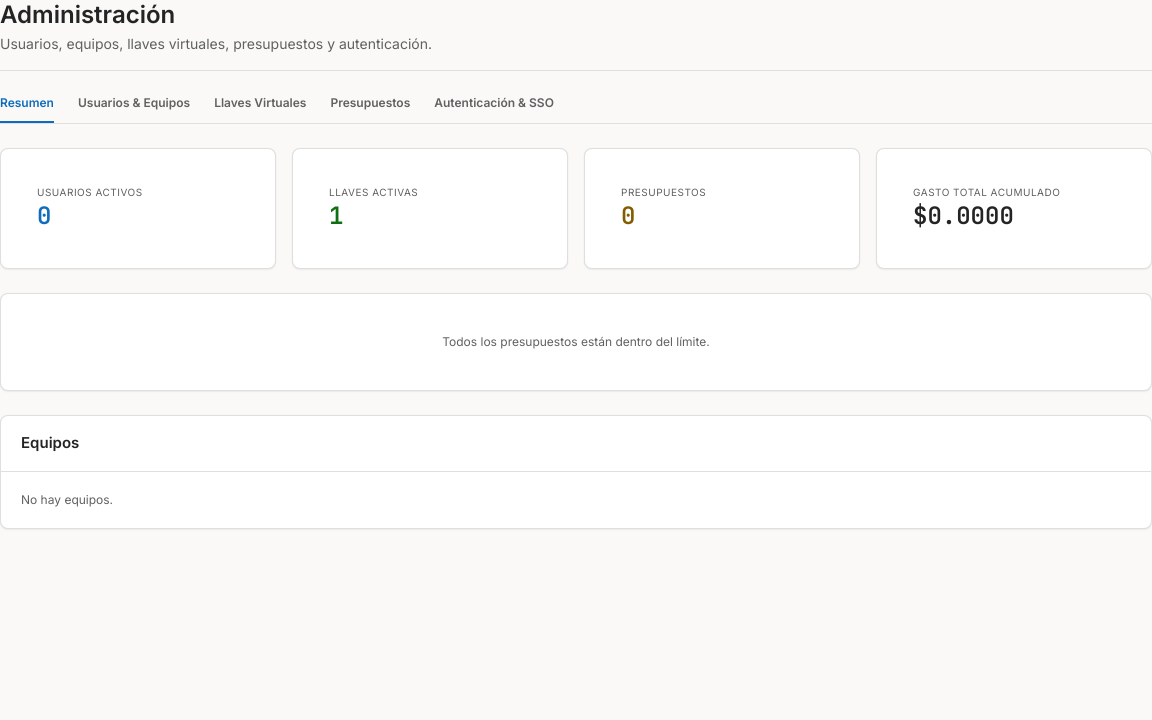
Scenario: UsersPage — editar límites de una llave › guarda los límites nuevos y recarga la lista con lo que quedó
Click the button "Llaves Virtuales" at (260, 109), box [214,95,306,123]
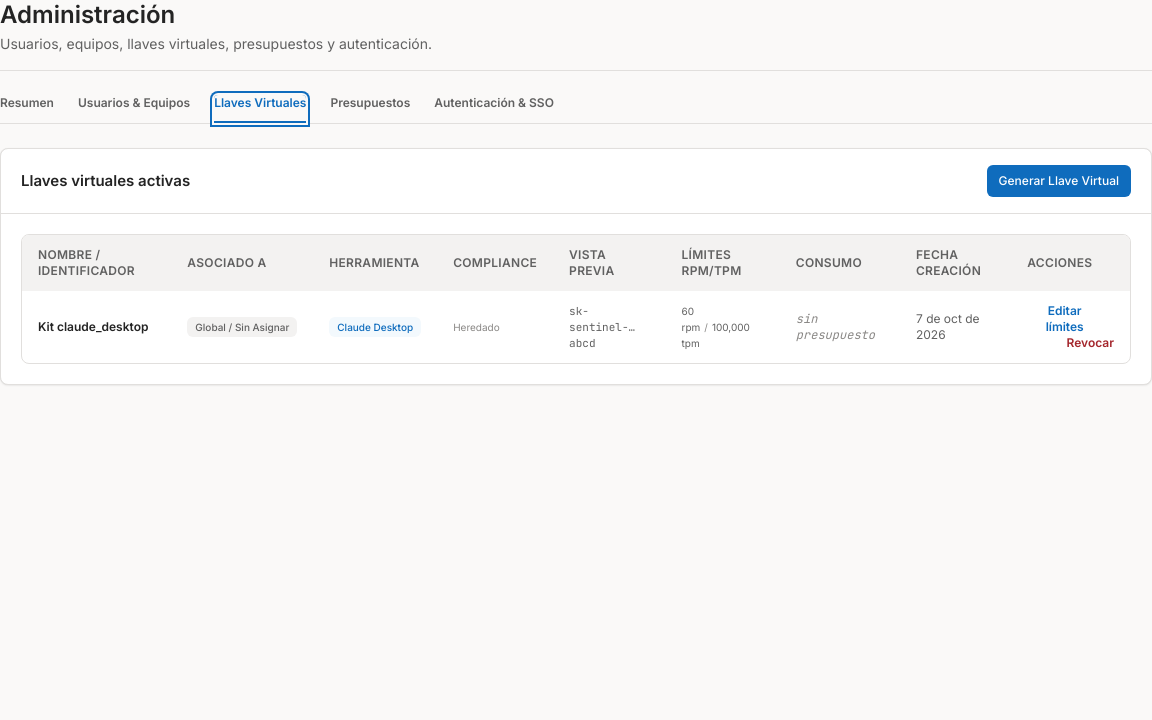
Now the text "60 rpm" is shown, box [682,305,700,333]
Click the button "Editar límites" at (1065, 319), box [1027,303,1102,335]
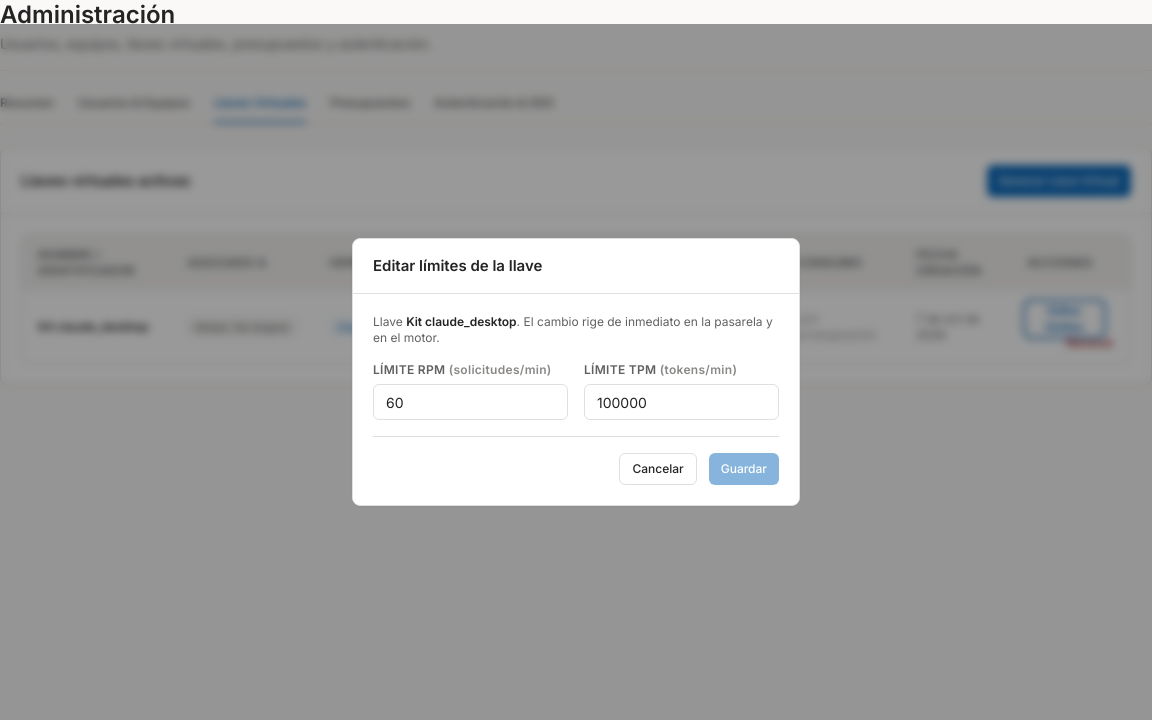
Replace the text in the number field labelled "Límite RPM (solicitudes/min)" with "120" at (470, 402), box [373,384,568,420]
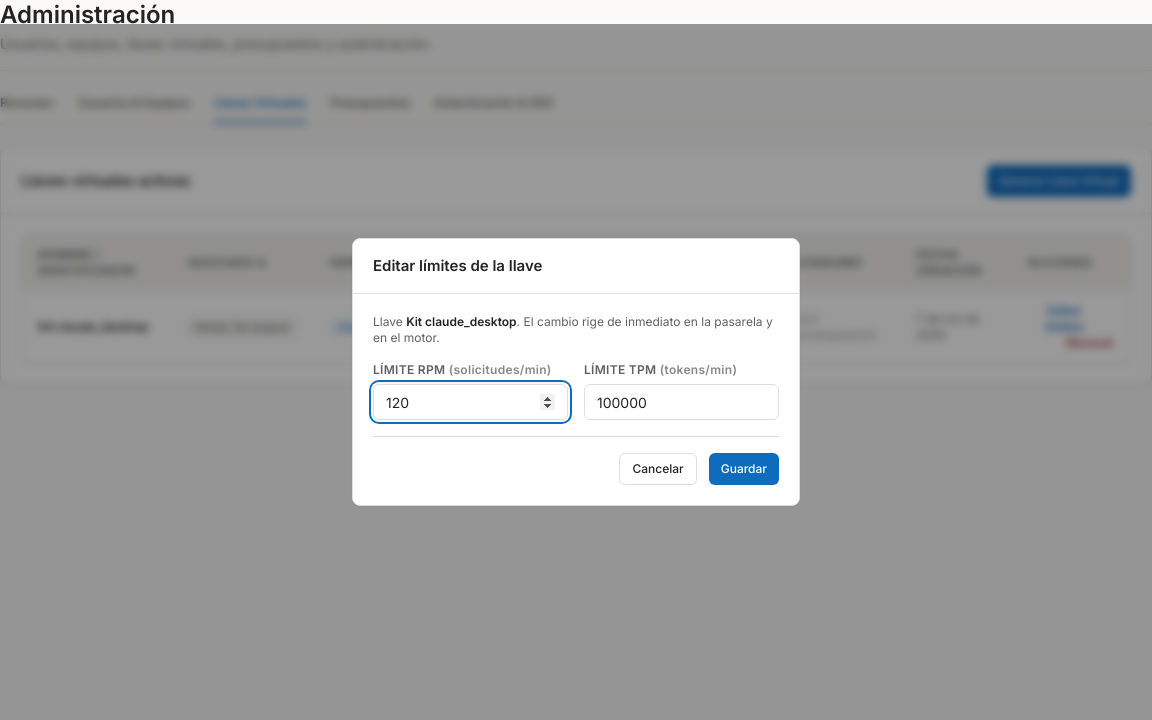
Replace the text in the number field labelled "Límite TPM (tokens/min)" with "1000000" at (682, 402), box [584,384,779,420]
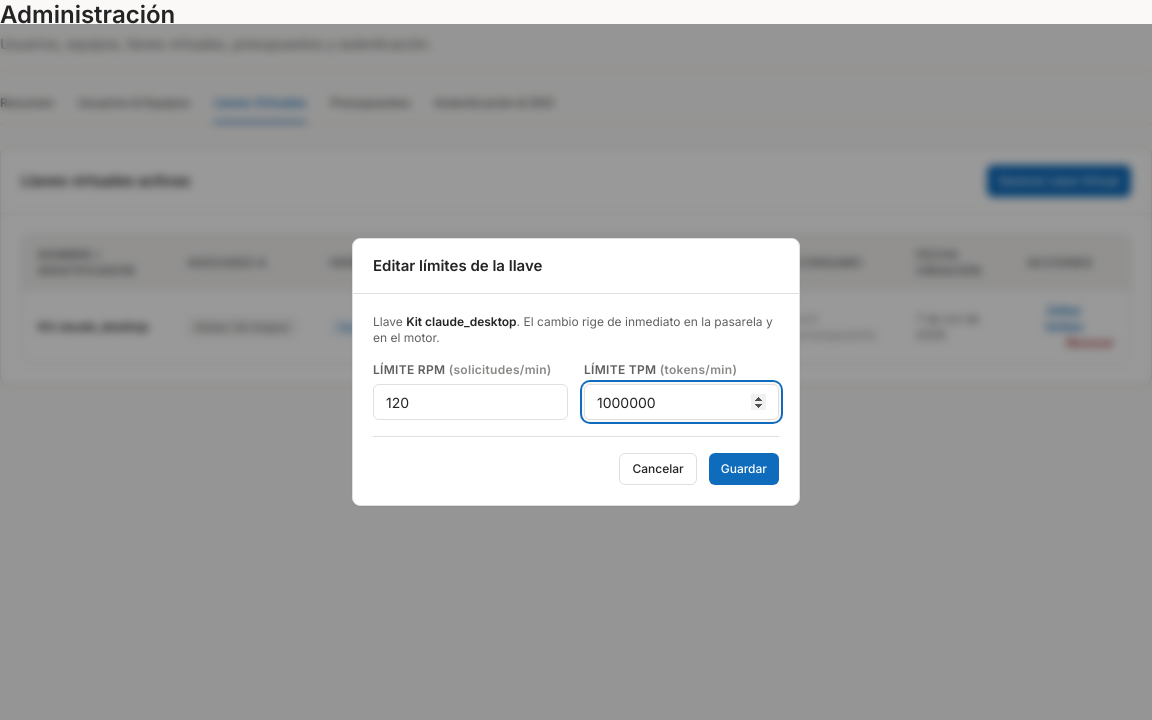
Click the button "Guardar" at (744, 469), box [709,453,779,485]
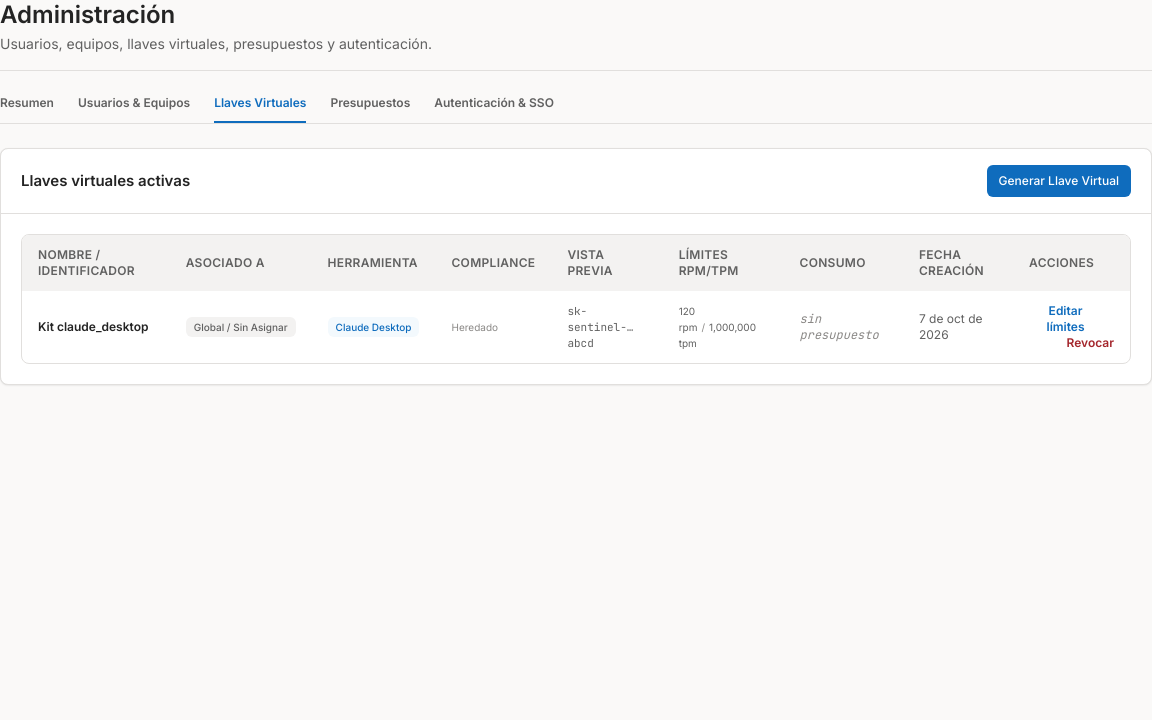
Now the text "120 rpm" is shown, box [679,305,697,333]
Now the label labelled "Límite RPM" is gone
